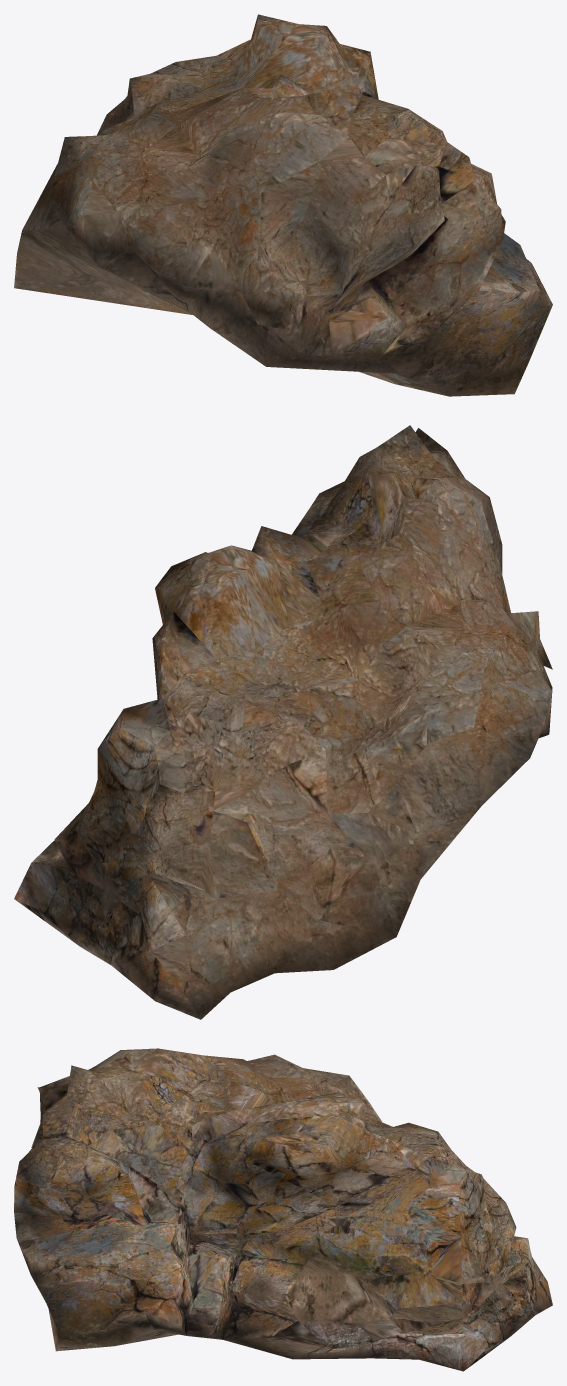
The model's file is rock.glb.
3 renders of one model, top to bottom at view 1: azimuth 30°, elevation 25°; view 2: azimuth 150°, elevation 25°; view 3: azimuth 270°, elevation 25°, orthographic. The views are drawn at different scales.
Visible parts, largest first — view 1: boulder_01_LOD0; view 2: boulder_01_LOD0; view 3: boulder_01_LOD0.
Part boxes in pixels (<box>): boulder_01_LOD0: <box>14,14,552,396</box>; boulder_01_LOD0: <box>14,425,552,1019</box>; boulder_01_LOD0: <box>14,1048,552,1371</box>.
Size of the model in its own units: 1.33 by 1.04 by 1.86.
Materials: 1 (1 with a texture image).
